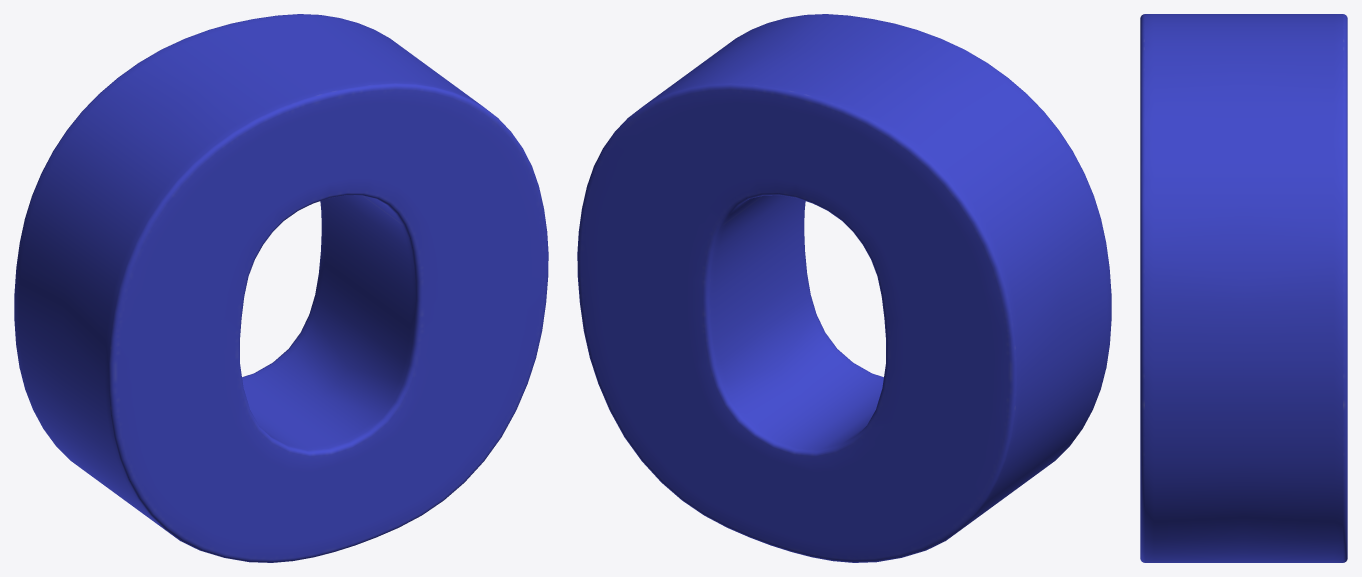
Rendered from modelO.glb.
3 renders of one model, left to right at view 1: azimuth 30°, elevation 25°; view 2: azimuth 150°, elevation 25°; view 3: azimuth 270°, elevation 25°, orthographic. The views are drawn at different scales.
Visible parts, largest first — view 1: node_id116_1; view 2: node_id116_1; view 3: node_id116_1.
Boxes of the visible parts, bbox=[...] form: node_id116_1: bbox=[14, 14, 548, 562]; node_id116_1: bbox=[577, 14, 1111, 562]; node_id116_1: bbox=[1140, 14, 1347, 562].
Size of the model in its own units: 0.5102 by 0.512 by 0.1986.
1 material, 1 textured.
